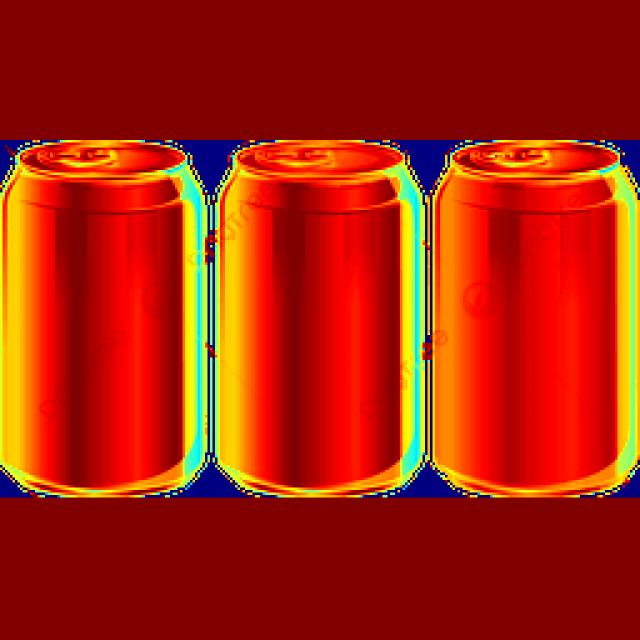Aluminium Food Cans: (212, 145, 436, 504), (0, 142, 210, 510), (420, 139, 636, 494)
